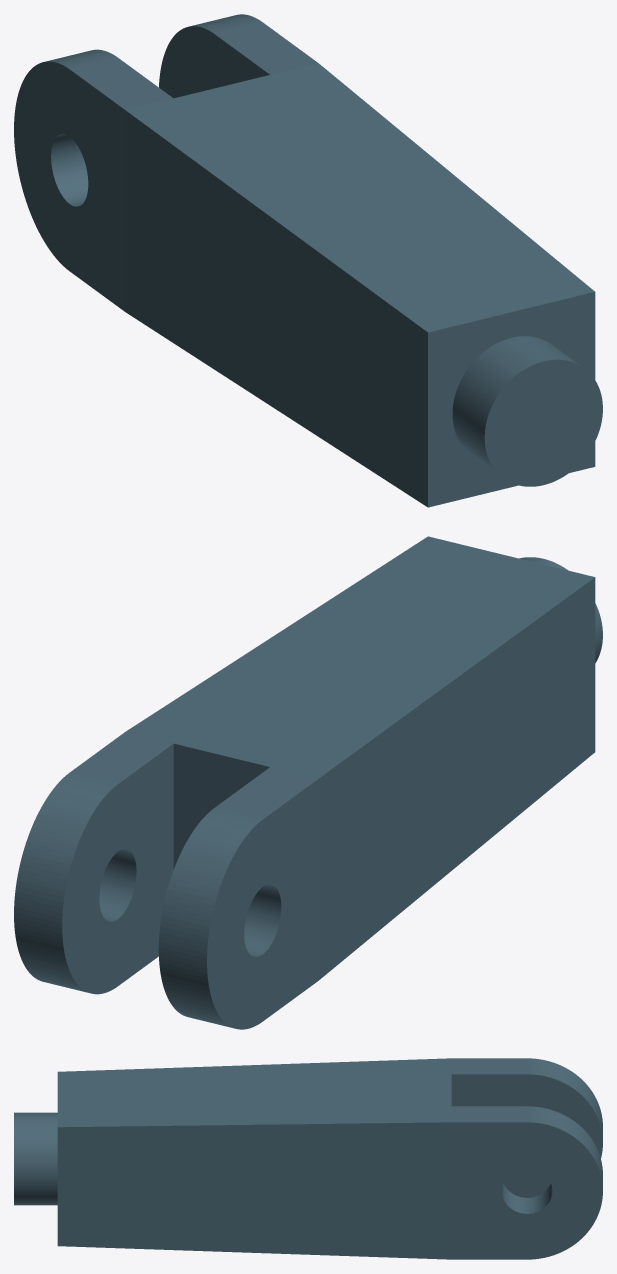
3 views of the same model, one above another, from view 1: azimuth 30°, elevation 25°; view 2: azimuth 150°, elevation 25°; view 3: azimuth 270°, elevation 25° (orthographic). The views are drawn at different scales.
Parts seen in each view (by area): view 1: node; view 2: node; view 3: node.
Boxes of the visible parts, x1,y1,x2,y2 form: node: (14,14,602,507); node: (14,536,602,1029); node: (14,1058,602,1259).
Size of the model in its own units: 0.0962 by 0.0962 by 0.3739.
